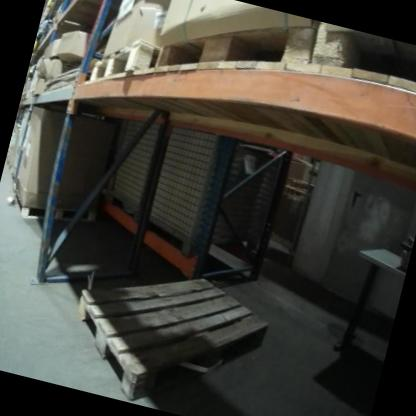pallet: (59, 248, 278, 416), (154, 0, 320, 106), (307, 21, 416, 101), (87, 29, 164, 98), (8, 185, 101, 237)
stillage: (139, 126, 293, 273), (101, 121, 161, 223)
